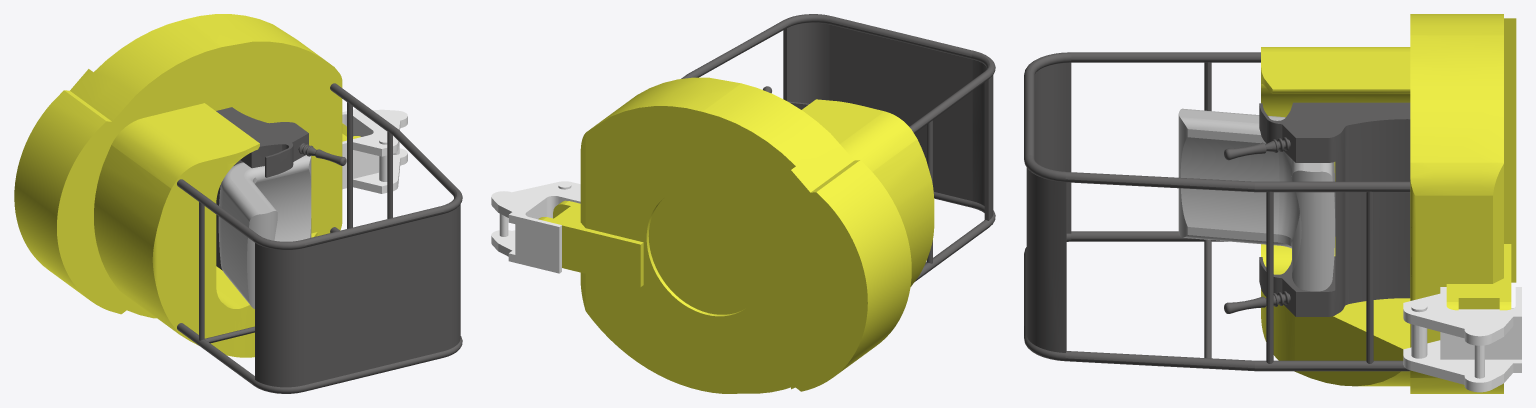
File: upper-structure.glb
The picture shows the model from 3 angles, left to right: view 1: azimuth 30°, elevation 25°; view 2: azimuth 150°, elevation 25°; view 3: azimuth 270°, elevation 25°; orthographic projection. The views are drawn at different scales.
Visible parts, largest first — view 1: material_0, material_1, material_3, material_2; view 2: material_0, material_1, material_2; view 3: material_0, material_1, material_3, material_2.
Boxes of the visible parts, box(x1,y1,x2,y2) form: material_0: box(14, 14, 360, 357); material_1: box(177, 83, 462, 393); material_3: box(218, 155, 311, 308); material_2: box(342, 109, 407, 193); material_0: box(538, 77, 934, 393); material_1: box(681, 14, 995, 281); material_2: box(491, 181, 580, 273); material_0: box(1261, 14, 1516, 393); material_1: box(1024, 52, 1410, 371); material_3: box(1178, 108, 1335, 291); material_2: box(1403, 287, 1521, 392).
Size of the model in its own units: 2.06 by 1.41 by 1.89.
